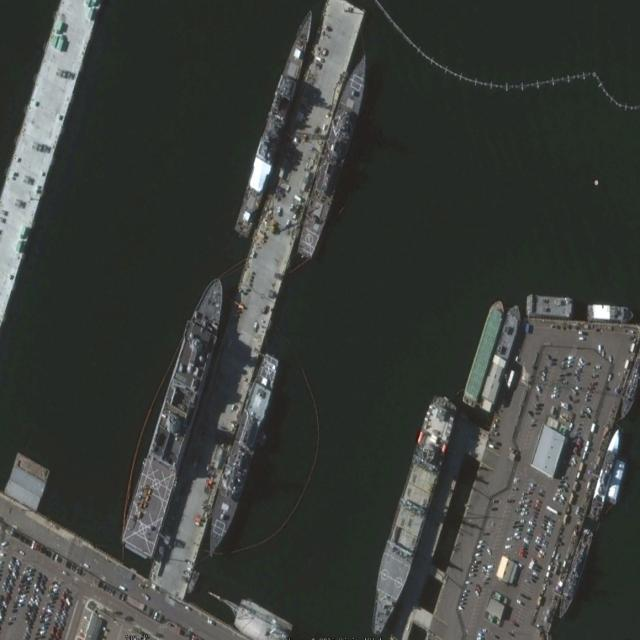Auxiliary Ships: (120, 268, 235, 563)
Cruiser: (232, 2, 319, 240)
Destroyer: (292, 45, 377, 263)
Frigate: (201, 348, 282, 563)
Other Ship: (361, 391, 458, 640)
Other Warship: (556, 526, 594, 620), (588, 425, 624, 522)
